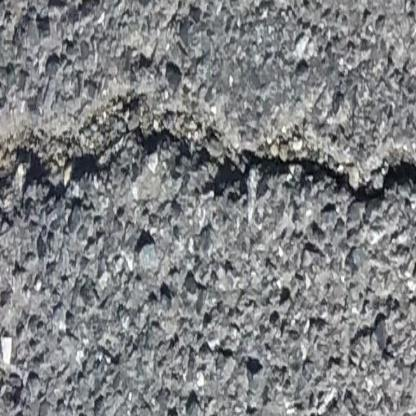Cracks: (0, 111, 416, 230)
